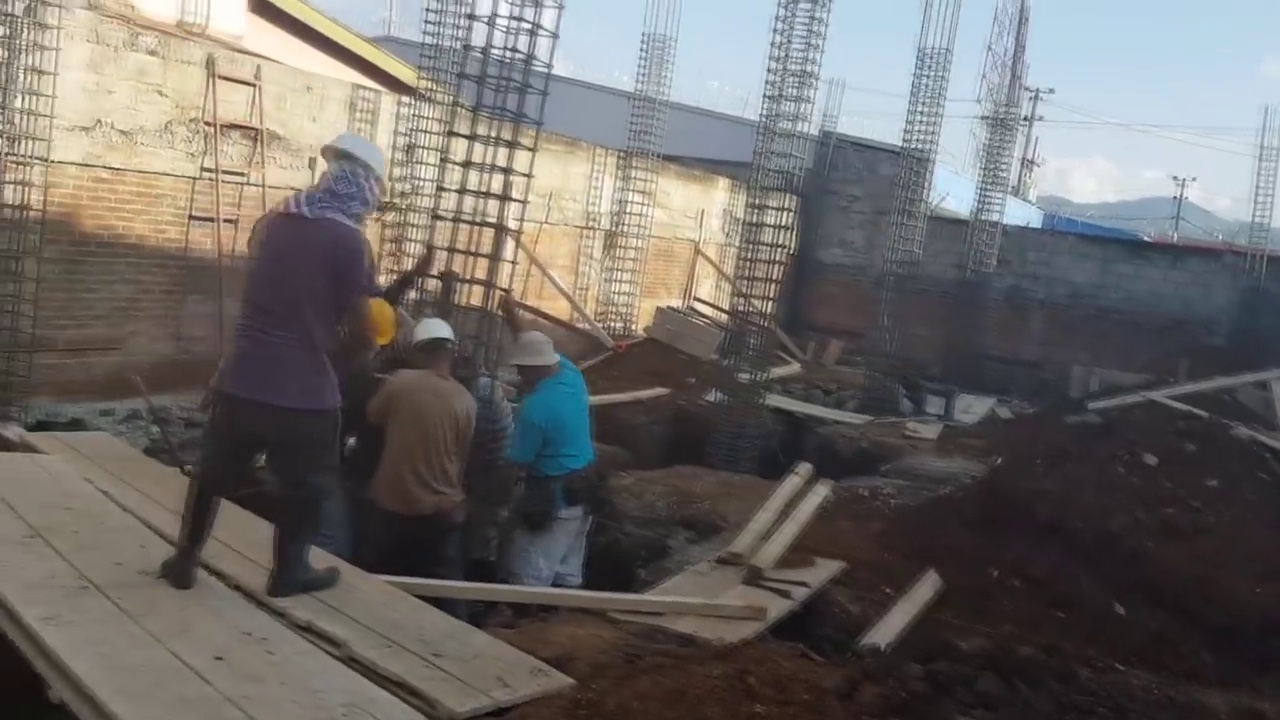helmet: (321, 128, 393, 197), (410, 319, 455, 355)
helmet-off: (508, 335, 563, 396)
helmet-on: (307, 127, 387, 206), (398, 321, 457, 379)
person: (172, 113, 395, 592), (365, 310, 477, 597), (495, 322, 596, 590), (463, 357, 512, 489)
